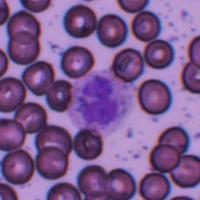N: (66, 68, 132, 136)
